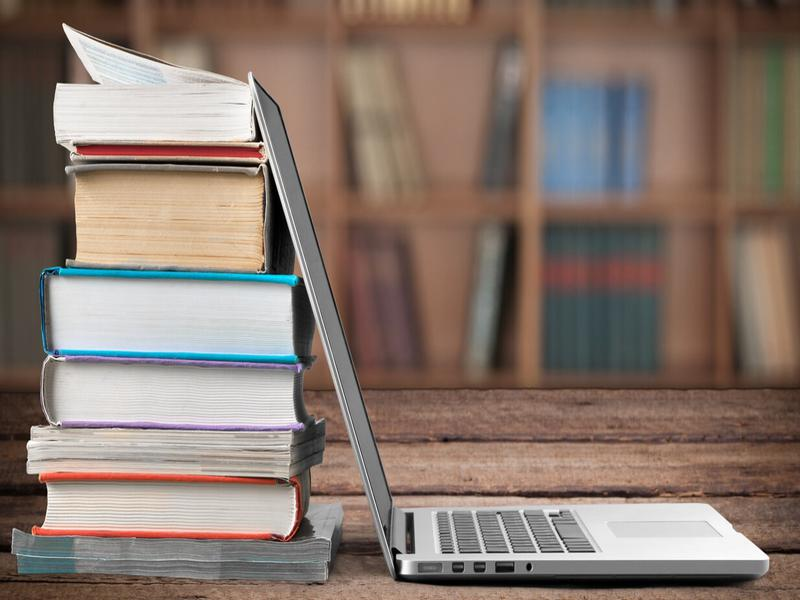book: (48, 25, 267, 147)
